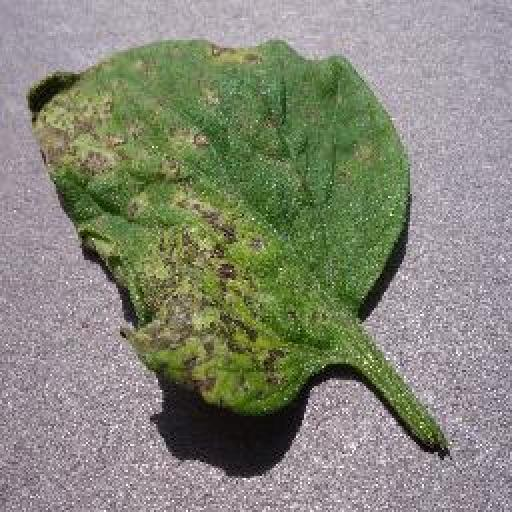Septoria: (31, 38, 414, 414)
